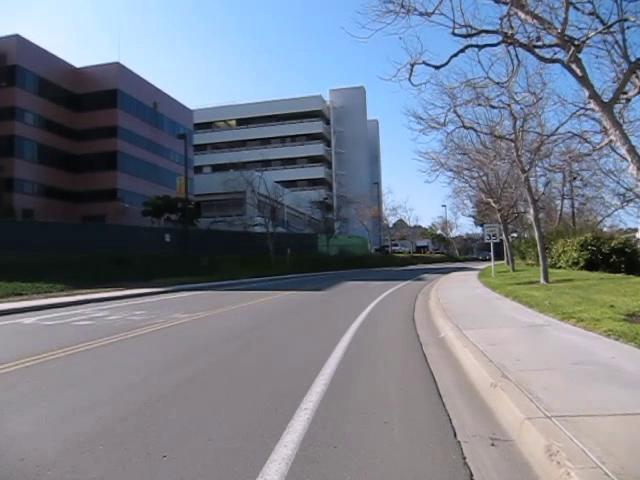speedLimit35: (483, 222, 500, 243)
